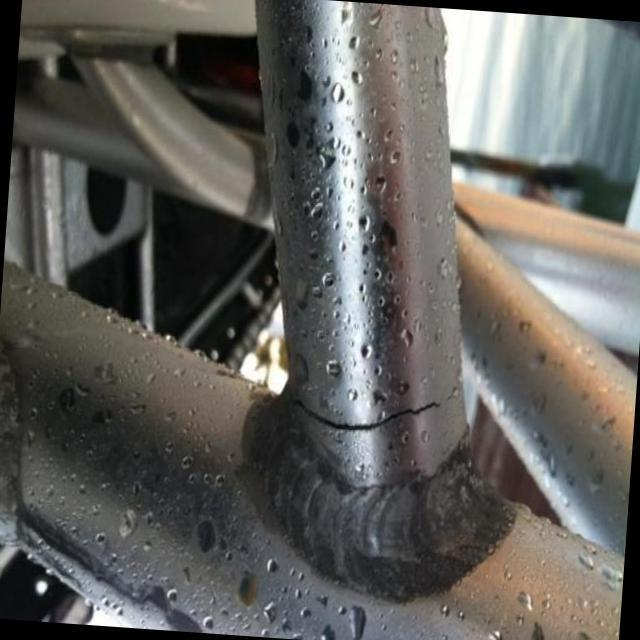defect: (281, 384, 446, 439)
